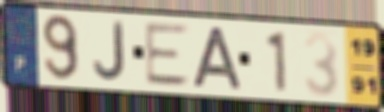1: (264, 30, 289, 94)
3: (302, 29, 341, 99)
9: (41, 12, 81, 84)
A: (190, 24, 246, 92)
E: (143, 21, 193, 88)
J: (91, 20, 128, 84)
